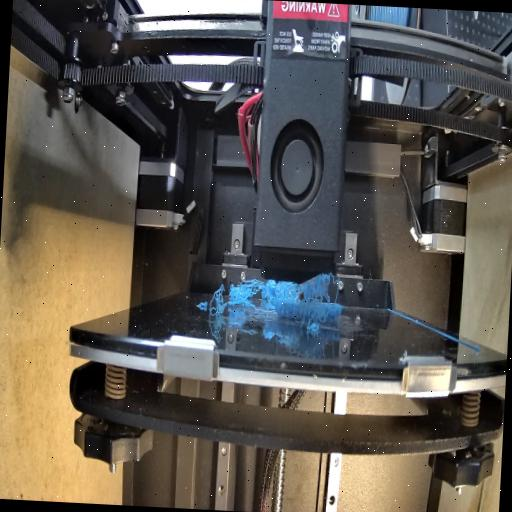spaghetti: (298, 272, 330, 340), (230, 280, 297, 302), (206, 284, 223, 318)
